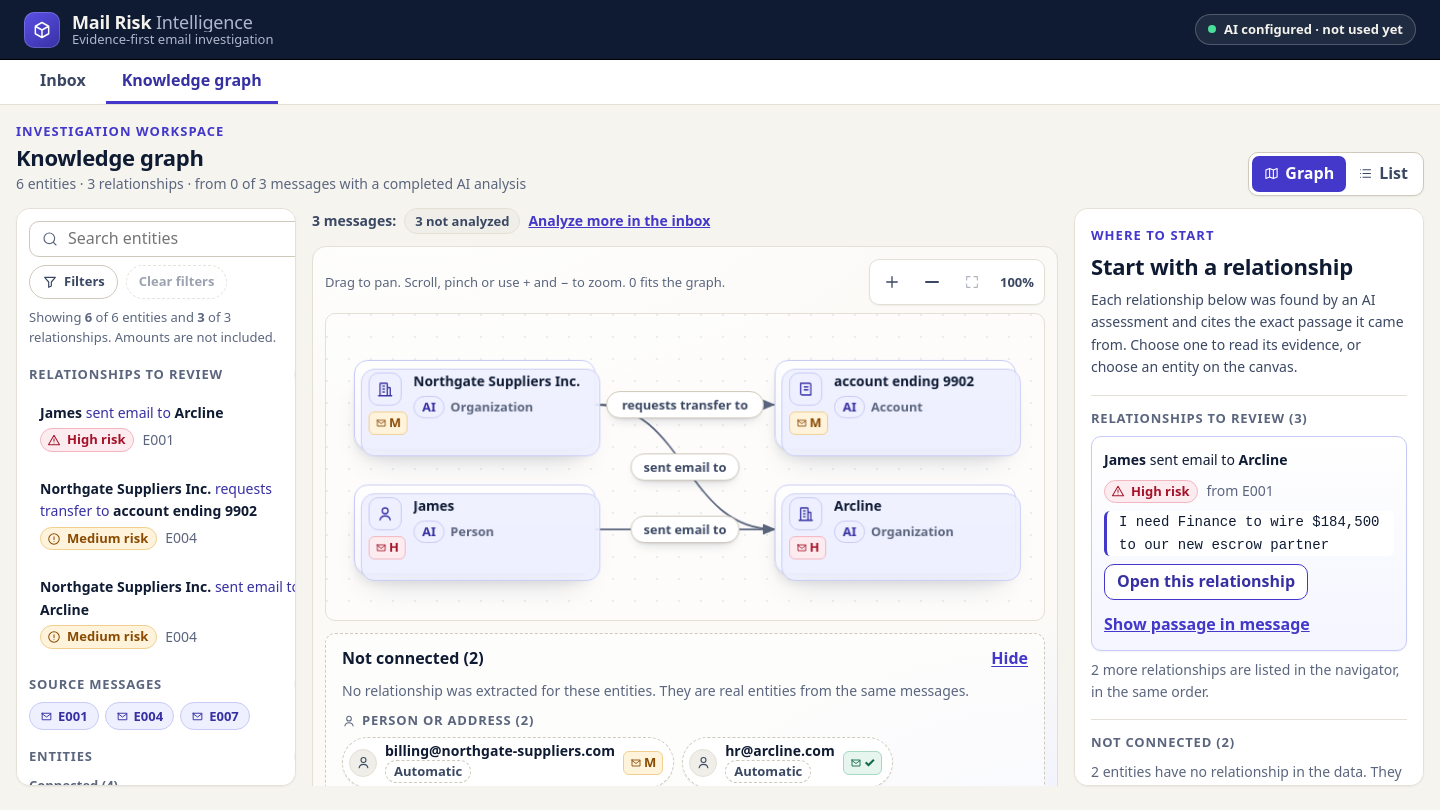
Test: selection and inspector › selecting a node shows its identity, origin, risk caveat, sources and relationships
expect the text "6 entities · 3 relationships" is shown: met, box [16,174,526,193]
Click the button with aria-label "Organization Northgate Suppliers Inc." at (475, 405), box [354,360,595,450]
(page scrolled)
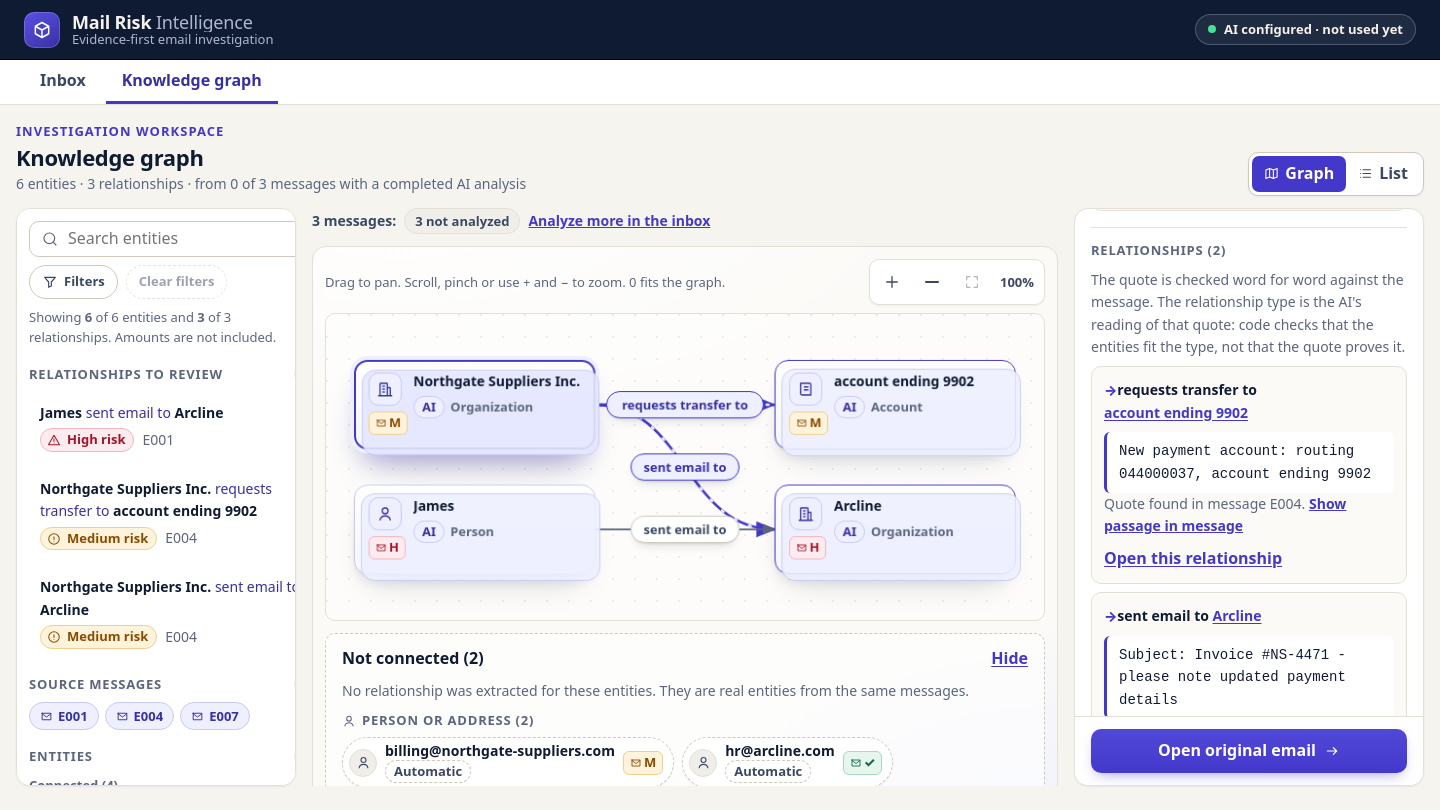
expect the heading "Relationships (2)" is shown: met, box [1091,241,1226,259]
expect the text "New payment account: routing 044000037, account ending 9902" is shown: met, box [1104,432,1394,493]
